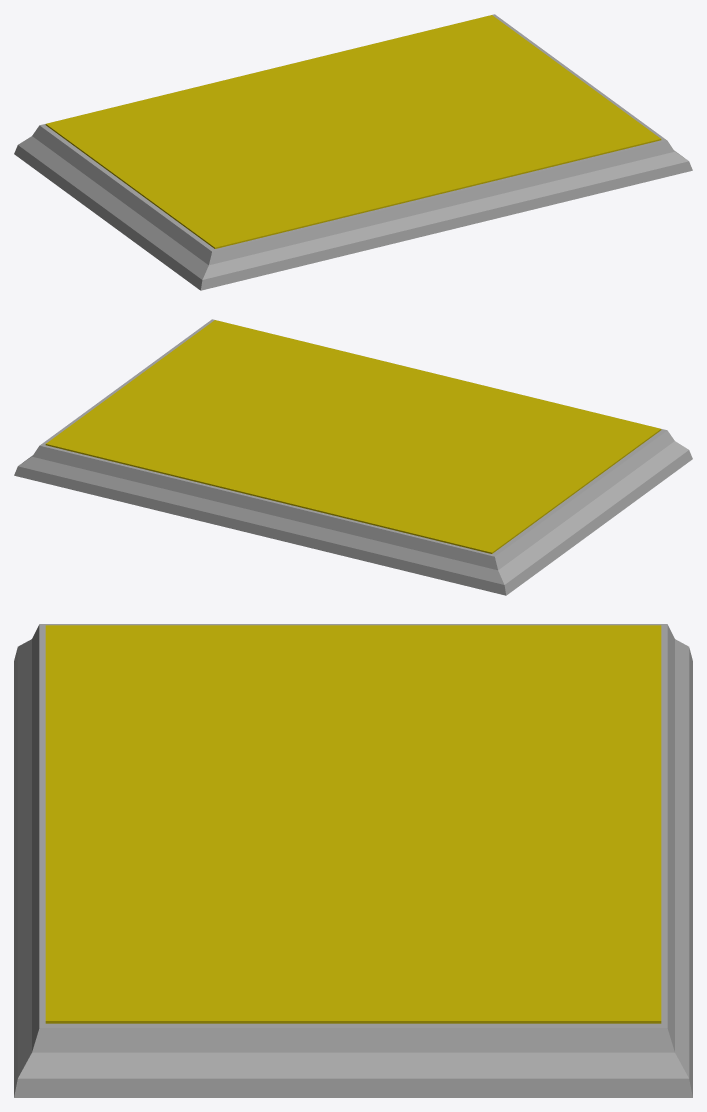
File: ZachB_Nameplate_master.fbx
The picture shows the model from 3 angles, top to bottom: view 1: azimuth 30°, elevation 25°; view 2: azimuth 150°, elevation 25°; view 3: azimuth 270°, elevation 25°; orthographic projection. The views are drawn at different scales.
Visible parts, largest first — view 1: pCube1, pCube2; view 2: pCube1, pCube2; view 3: pCube1, pCube2.
Boxes of the visible parts, <box> form: pCube1: <box>45,15,661,248</box>; pCube2: <box>14,14,692,290</box>; pCube1: <box>45,320,661,553</box>; pCube2: <box>14,319,692,595</box>; pCube1: <box>45,625,661,1023</box>; pCube2: <box>14,624,692,1097</box>.
Bounding box in the file's own units: 7.84 × 0.4724 × 5.15.
